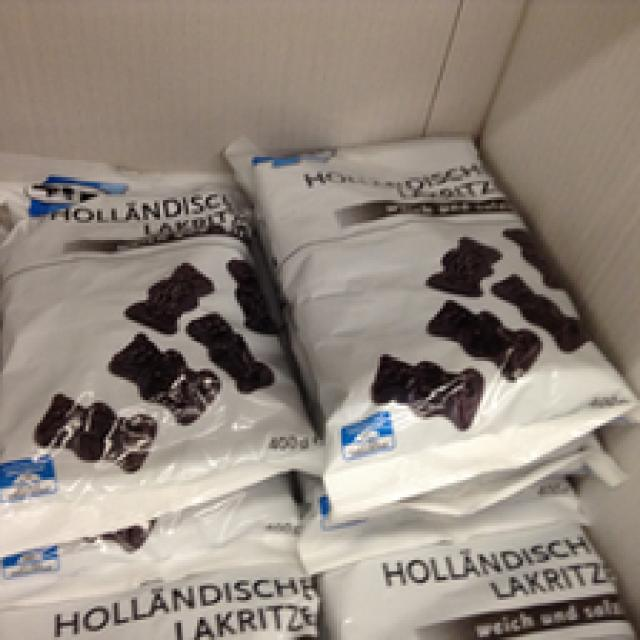groceries: (223, 128, 634, 508), (0, 151, 289, 566)
